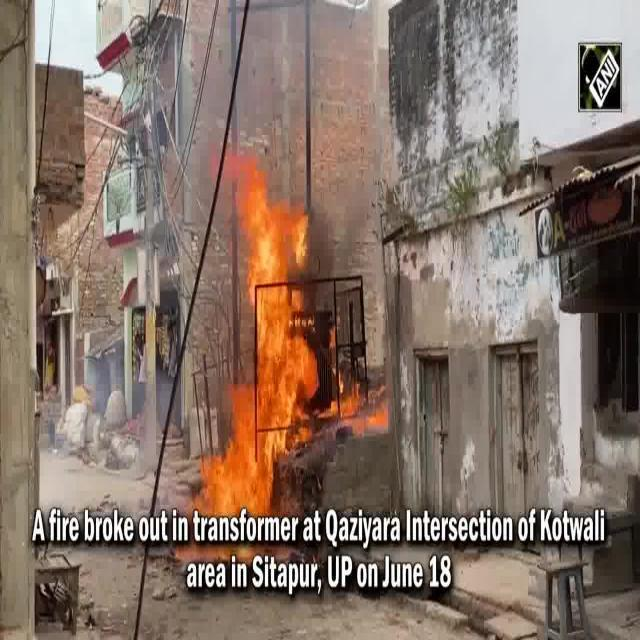Fire: (233, 175, 313, 452), (206, 466, 268, 513)
